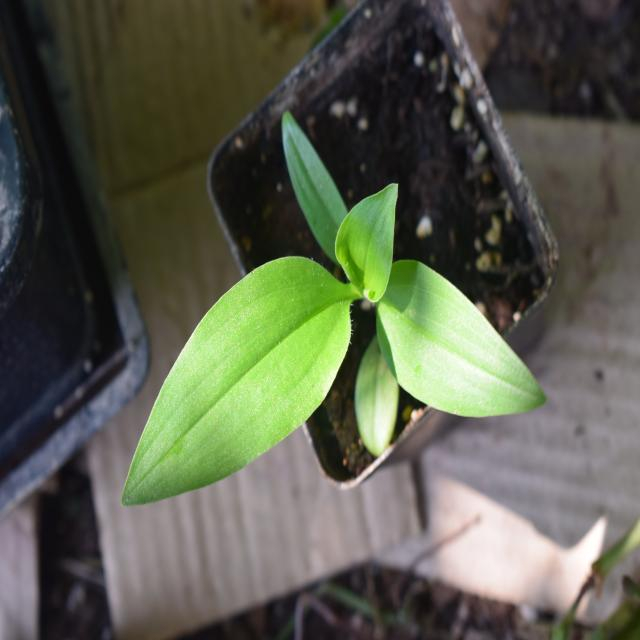Common Dayflower: (128, 146, 542, 534)
